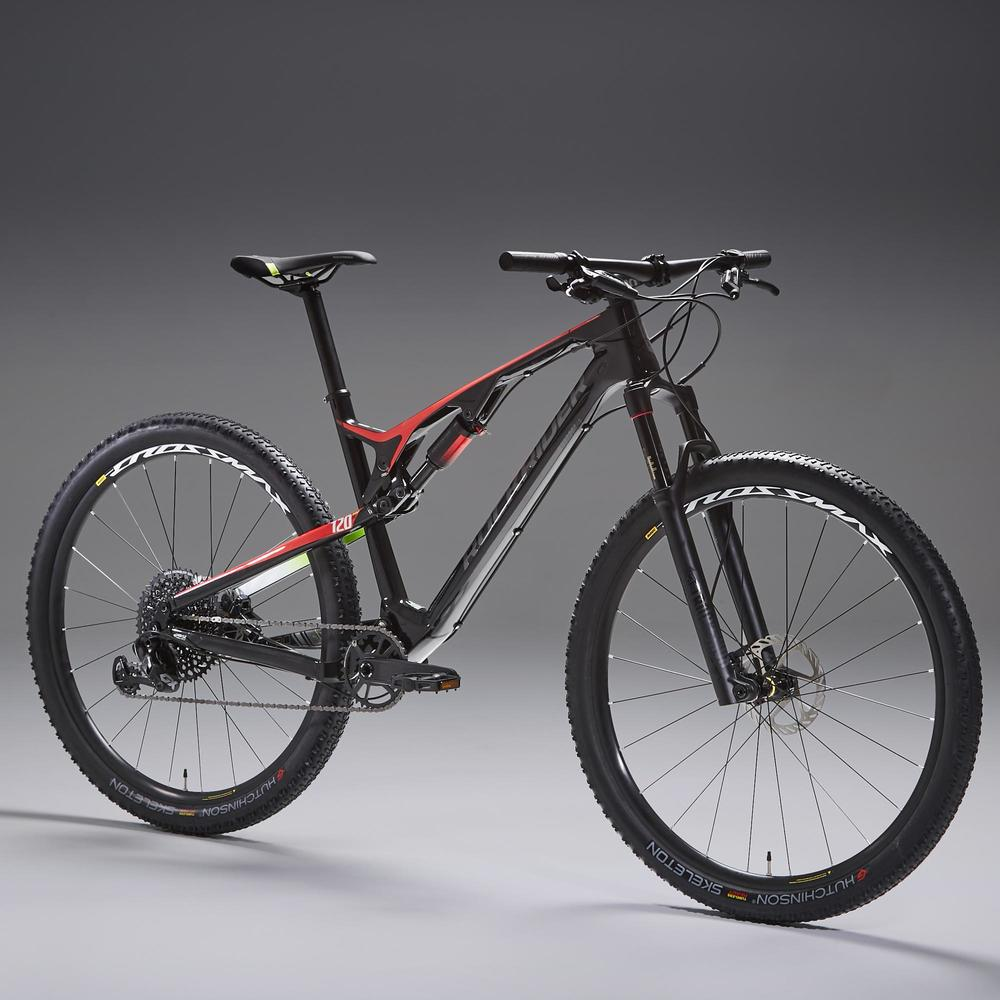MountainBike: (25, 224, 993, 900)
